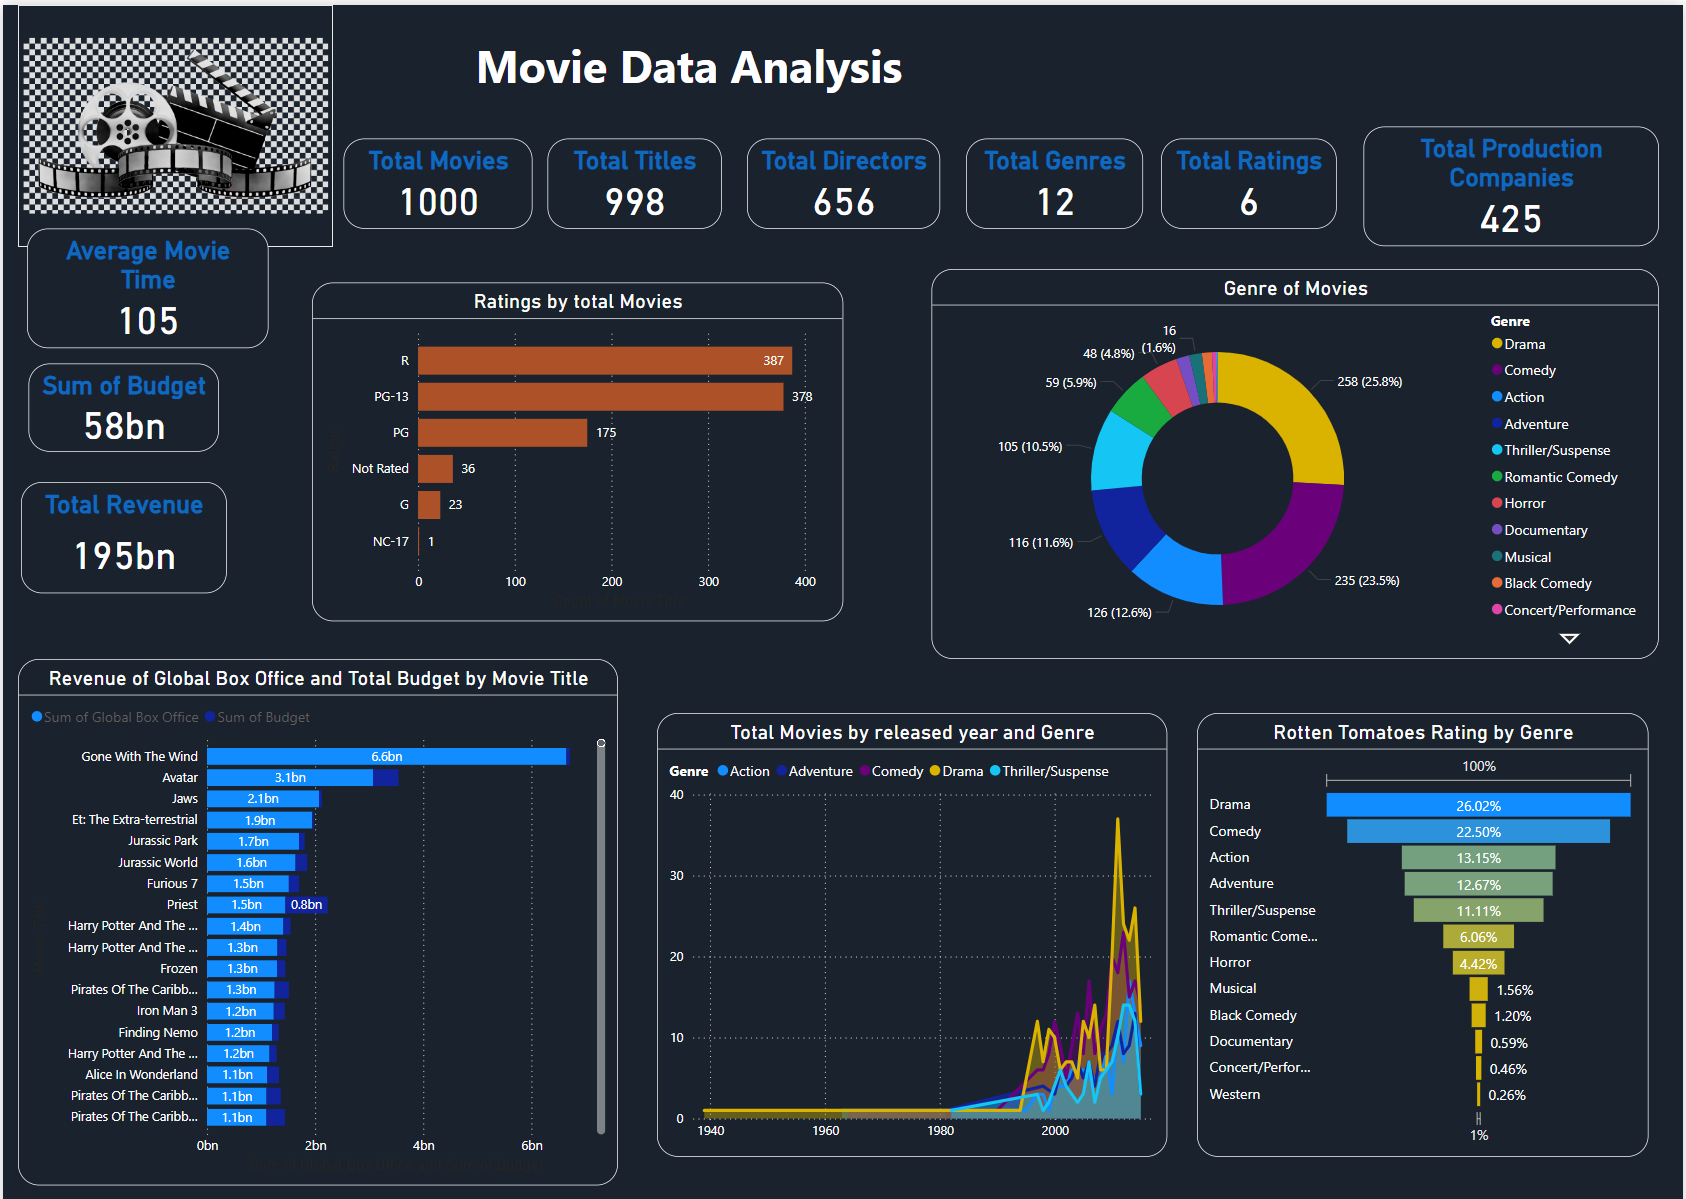

The dashboard page shown, as its layout file describes it:
{"tool":"powerbi","page":{"name":"Page 1","canvas":[1600,1500],"ordinal":0},"visuals":[{"type":"donutChart","title":"Genre of Movies","fields":{"Category":["Movies.Genre"],"Y":["Movies.Movie ID"]},"box":[884.3,251.4,692.9,371.4],"z":0},{"type":"areaChart","title":"Total Movies by released year and Genre","fields":{"Category":["Movies.Theater Release.Variation.Date Hierarchy.Year"],"Y":["Movies.Movie ID"],"Series":["Movies.Genre"]},"box":[622.9,674.3,485.7,422.9],"z":1000},{"type":"barChart","title":"Ratings by total Movies ","fields":{"Category":["Movies. Rating"],"Y":["Movies.Movie Title"]},"box":[294.3,264.3,505.7,322.9],"z":2000},{"type":"card","title":"Total Ratings","fields":{"Values":["Movies. Rating"]},"box":[1102.9,127.1,167.1,85.7],"z":3000},{"type":"textbox","box":[22.9,22.9,1028.6,157.1],"z":4000},{"type":"image","box":[14.3,0,300,230],"z":5000},{"type":"card","title":"Sum of Budget","fields":{"Values":["Movies.Budget"]},"box":[24.3,341.4,181.4,84.3],"z":6000},{"type":"card","title":"Total Revenue","fields":{"Values":["Movies.Global Box Office"]},"box":[17.1,454.3,195.7,105.7],"z":7000},{"type":"card","title":"Total Production Companies","fields":{"Values":["Movies.Production Company"]},"box":[1295.7,115.7,281.4,114.3],"z":8000},{"type":"barChart","title":"Revenue of Global Box Office and Total Budget by Movie Title","fields":{"Category":["Movies.Movie Title"],"Y":["Movies.Global Box Office","Movies.Budget"]},"box":[14.3,622.9,571.4,501.4],"z":9000},{"type":"card","title":"Total Movies","fields":{"Values":["Movies.Movie Title"]},"box":[324.3,127.1,180,85.7],"z":10000},{"type":"card","title":"Total Titles","fields":{"Values":["Movies.Movie Title"]},"box":[518.6,127.1,165.7,85.7],"z":11000},{"type":"card","title":"Total Directors","fields":{"Values":["Movies.Director"]},"box":[708.6,127.1,184.3,85.7],"z":12000},{"type":"card","title":"Total Genres","fields":{"Values":["Movies.Genre"]},"box":[917.1,127.1,168.6,85.7],"z":13000},{"type":"card","title":"Average Movie Time","fields":{"Values":["Movies.Movie Length (min)"]},"box":[22.9,212.9,230,114.3],"z":14000},{"type":"funnel","title":" Rotten Tomatoes Rating by Genre","fields":{"Y":["Movies.Rotten Tomatoes Rating"],"Category":["Movies.Genre"]},"box":[1137.1,674.3,430,422.9],"z":14001}]}

Visuals, with their boxes on the page's 1600x1500 design canvas (x1, y1, x2, y2). These are canvas units, not pixel positions in the 1686x1199 screenshot, which may show the page scaled, cropped or inside an application window:
"Genre of Movies" donutChart: select_region(884, 251, 1577, 623)
"Total Movies by released year and Genre" areaChart: select_region(623, 674, 1109, 1097)
"Ratings by total Movies " barChart: select_region(294, 264, 800, 587)
"Total Ratings" card: select_region(1103, 127, 1270, 213)
textbox: select_region(23, 23, 1052, 180)
image: select_region(14, 0, 314, 230)
"Sum of Budget" card: select_region(24, 341, 206, 426)
"Total Revenue" card: select_region(17, 454, 213, 560)
"Total Production Companies" card: select_region(1296, 116, 1577, 230)
"Revenue of Global Box Office and Total Budget by Movie Title" barChart: select_region(14, 623, 586, 1124)
"Total Movies" card: select_region(324, 127, 504, 213)
"Total Titles" card: select_region(519, 127, 684, 213)
"Total Directors" card: select_region(709, 127, 893, 213)
"Total Genres" card: select_region(917, 127, 1086, 213)
"Average Movie Time" card: select_region(23, 213, 253, 327)
" Rotten Tomatoes Rating by Genre" funnel: select_region(1137, 674, 1567, 1097)
